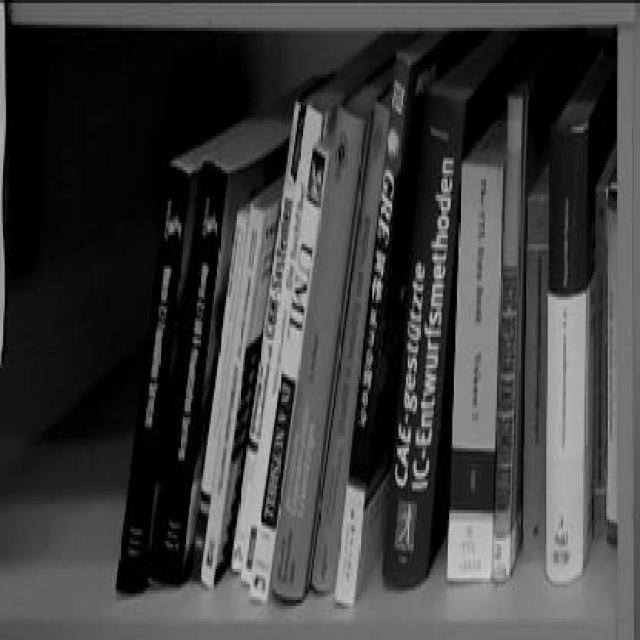book: (234, 38, 414, 624), (111, 145, 223, 599), (447, 150, 503, 594), (550, 109, 593, 581), (498, 91, 527, 584)
